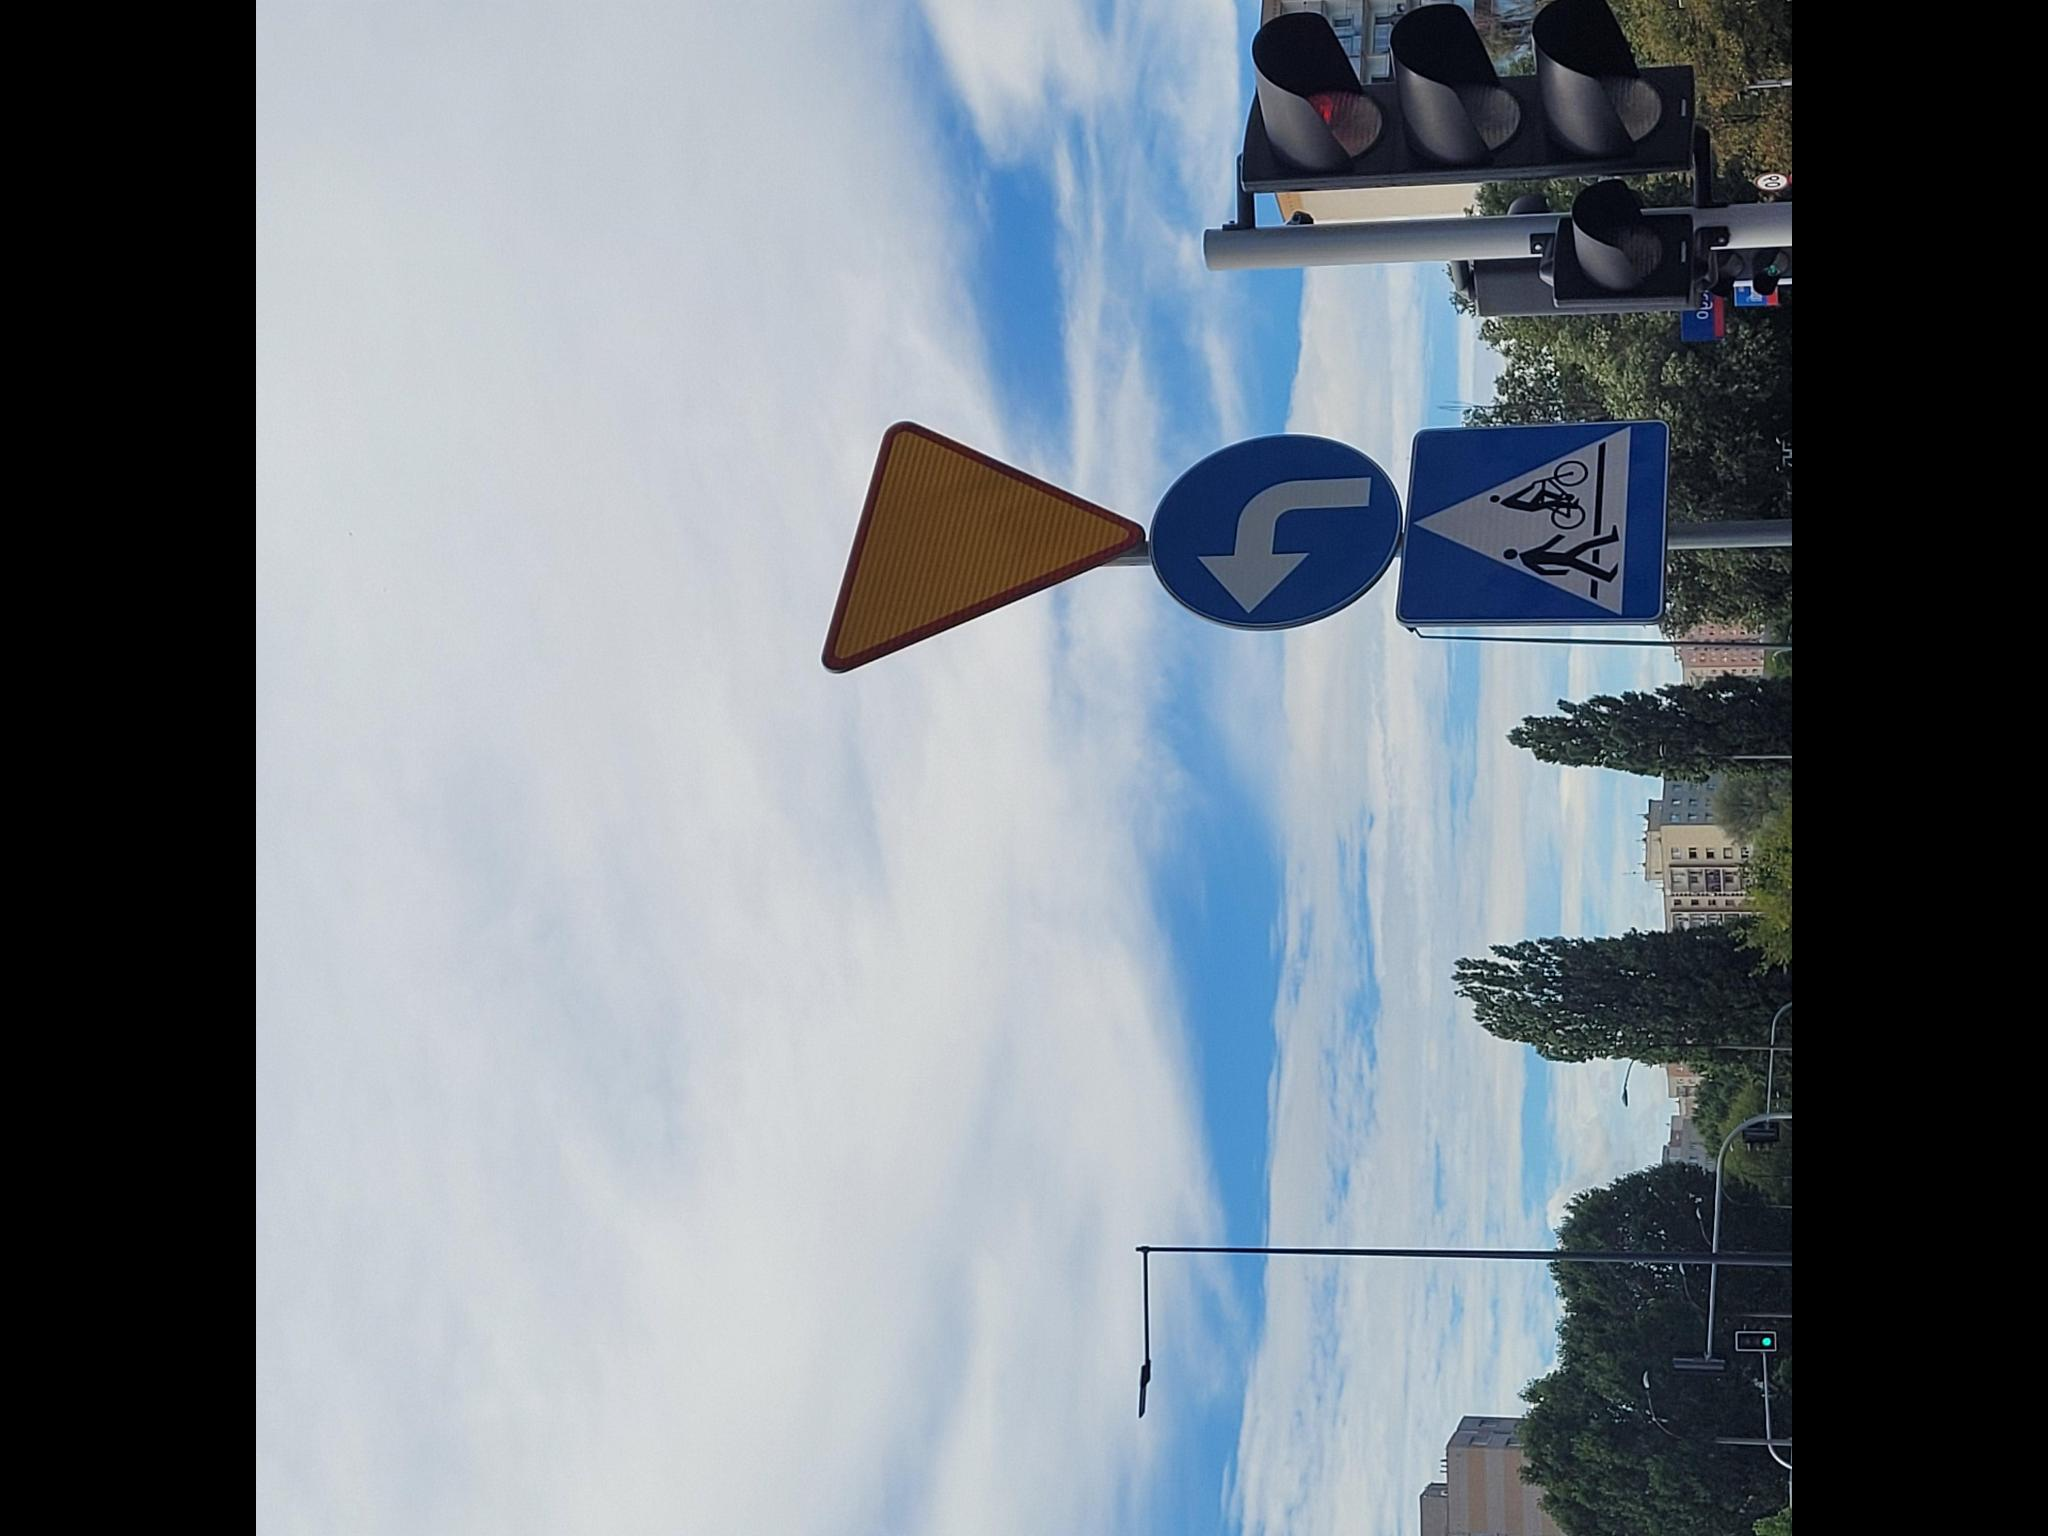information: (1400, 428, 1664, 624)
mandatory: (1148, 432, 1401, 631)
warning: (819, 418, 1147, 676)
